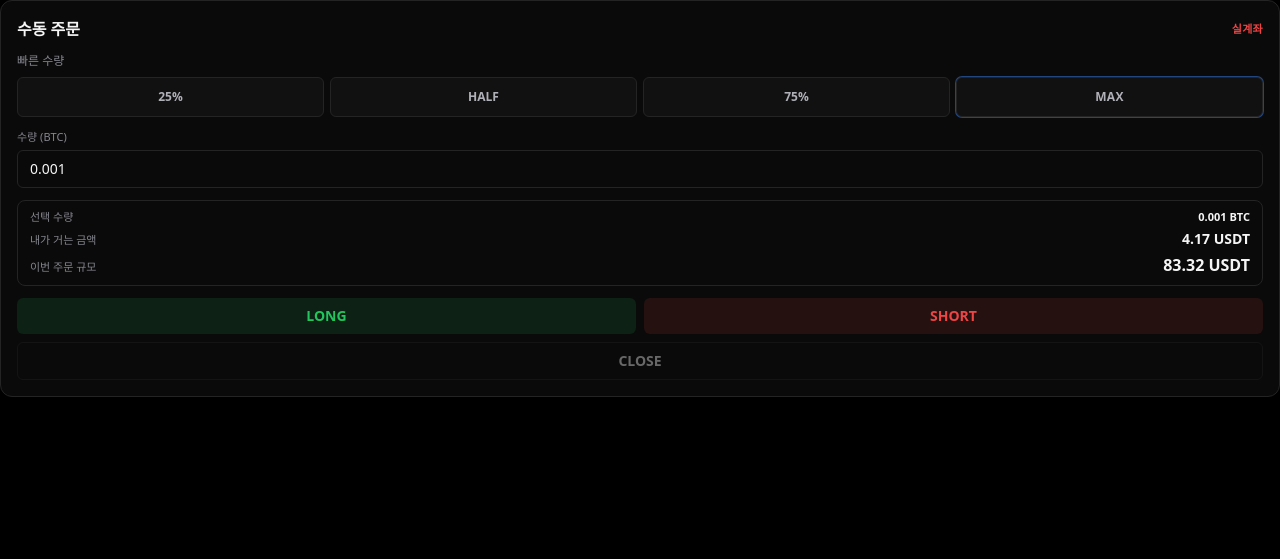
the leverage the confirmation states › says the setting when the band allows it, exactly as before
Step 1. Click the button with test id "live-preset-MAX" → point(1110, 97), box left=956, top=77, right=1263, bottom=117
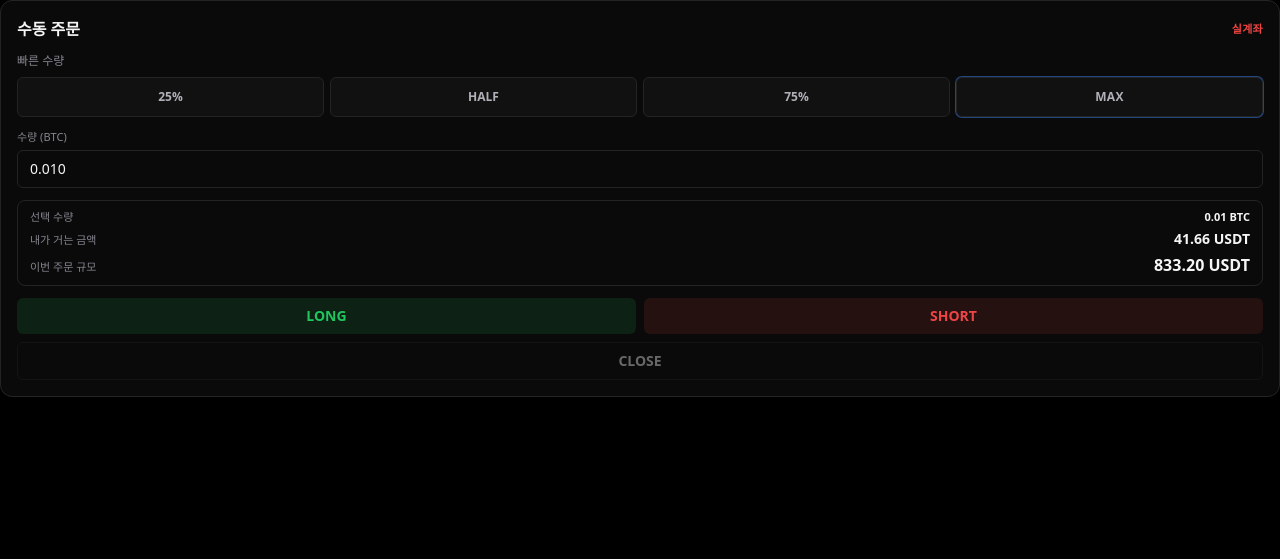
Step 2. Click the button with test id "live-long" → point(326, 316), box left=17, top=298, right=636, bottom=334
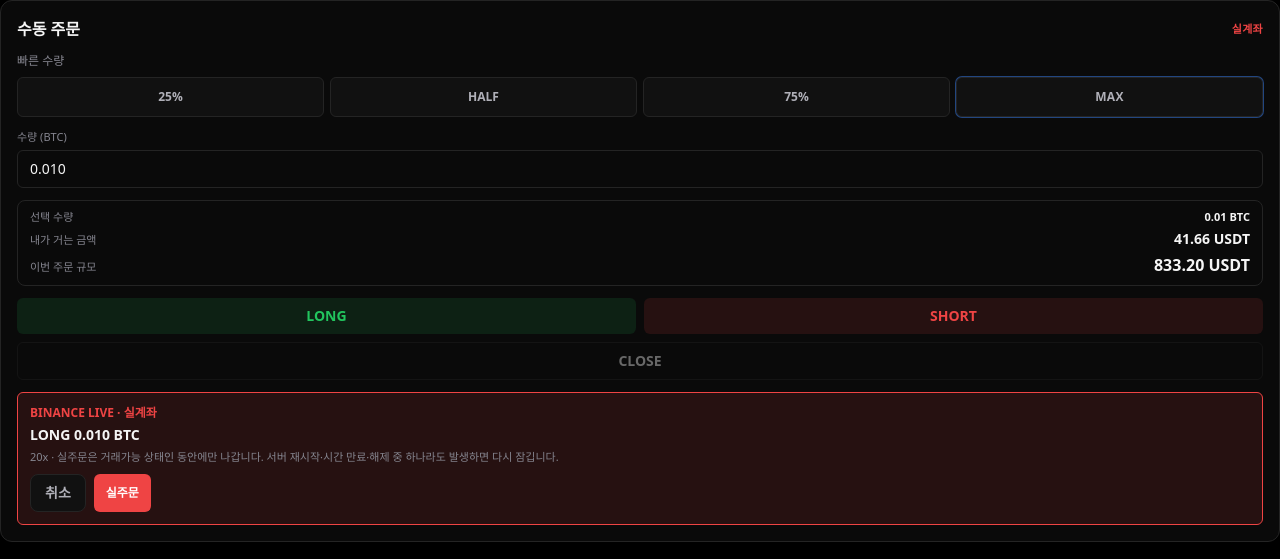
Now the text with test id "live-confirm-leverage" reads "20x ·", box left=30, top=449, right=57, bottom=464
